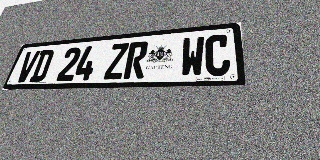2: (56, 47, 82, 81)
4: (73, 45, 99, 81)
C: (205, 34, 231, 76)
D: (29, 49, 55, 82)
R: (123, 41, 149, 79)
V: (14, 50, 41, 83)
W: (180, 36, 205, 77)
Z: (103, 43, 129, 80)
